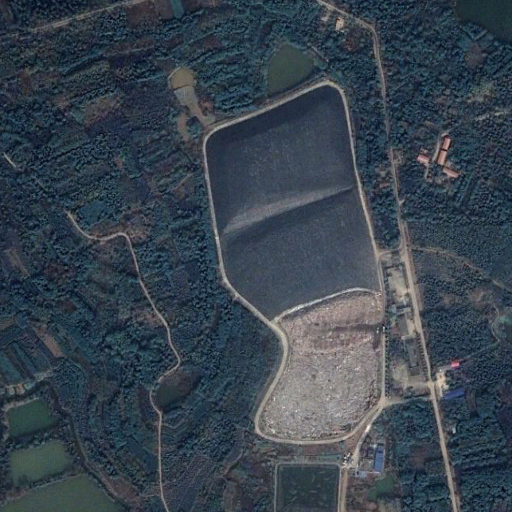lf: (200, 75, 389, 447)
